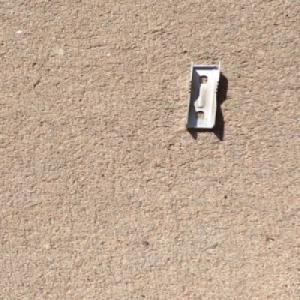ClampPart: (182, 57, 224, 130)
